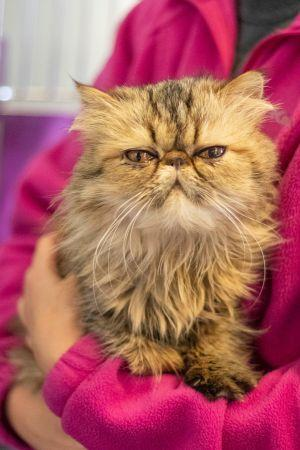persian: (68, 69, 282, 259)
